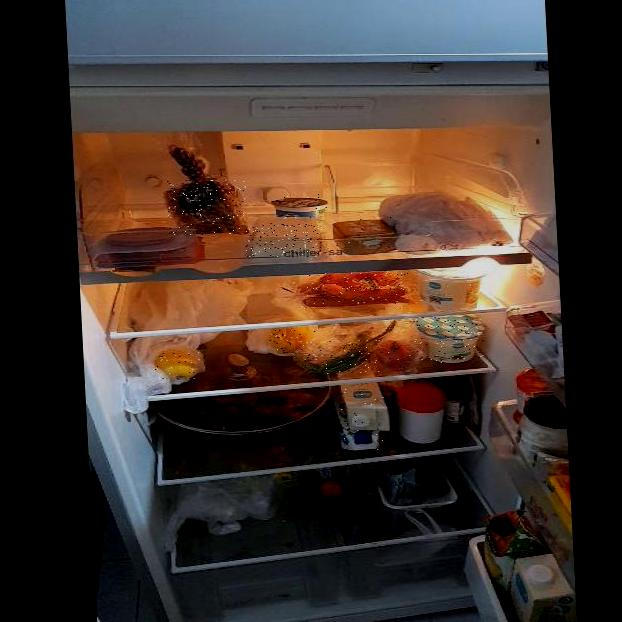bread: (166, 180, 248, 236)
butter: (332, 217, 397, 249)
carrots: (306, 273, 410, 304)
cheese: (244, 223, 323, 257)
green chilies: (304, 340, 382, 374)
lemon: (154, 349, 205, 380), (265, 330, 317, 355)
milk: (333, 387, 390, 452)
tomato: (376, 342, 418, 368)
yoghurt: (413, 317, 488, 363), (416, 266, 488, 308), (271, 193, 328, 219)
